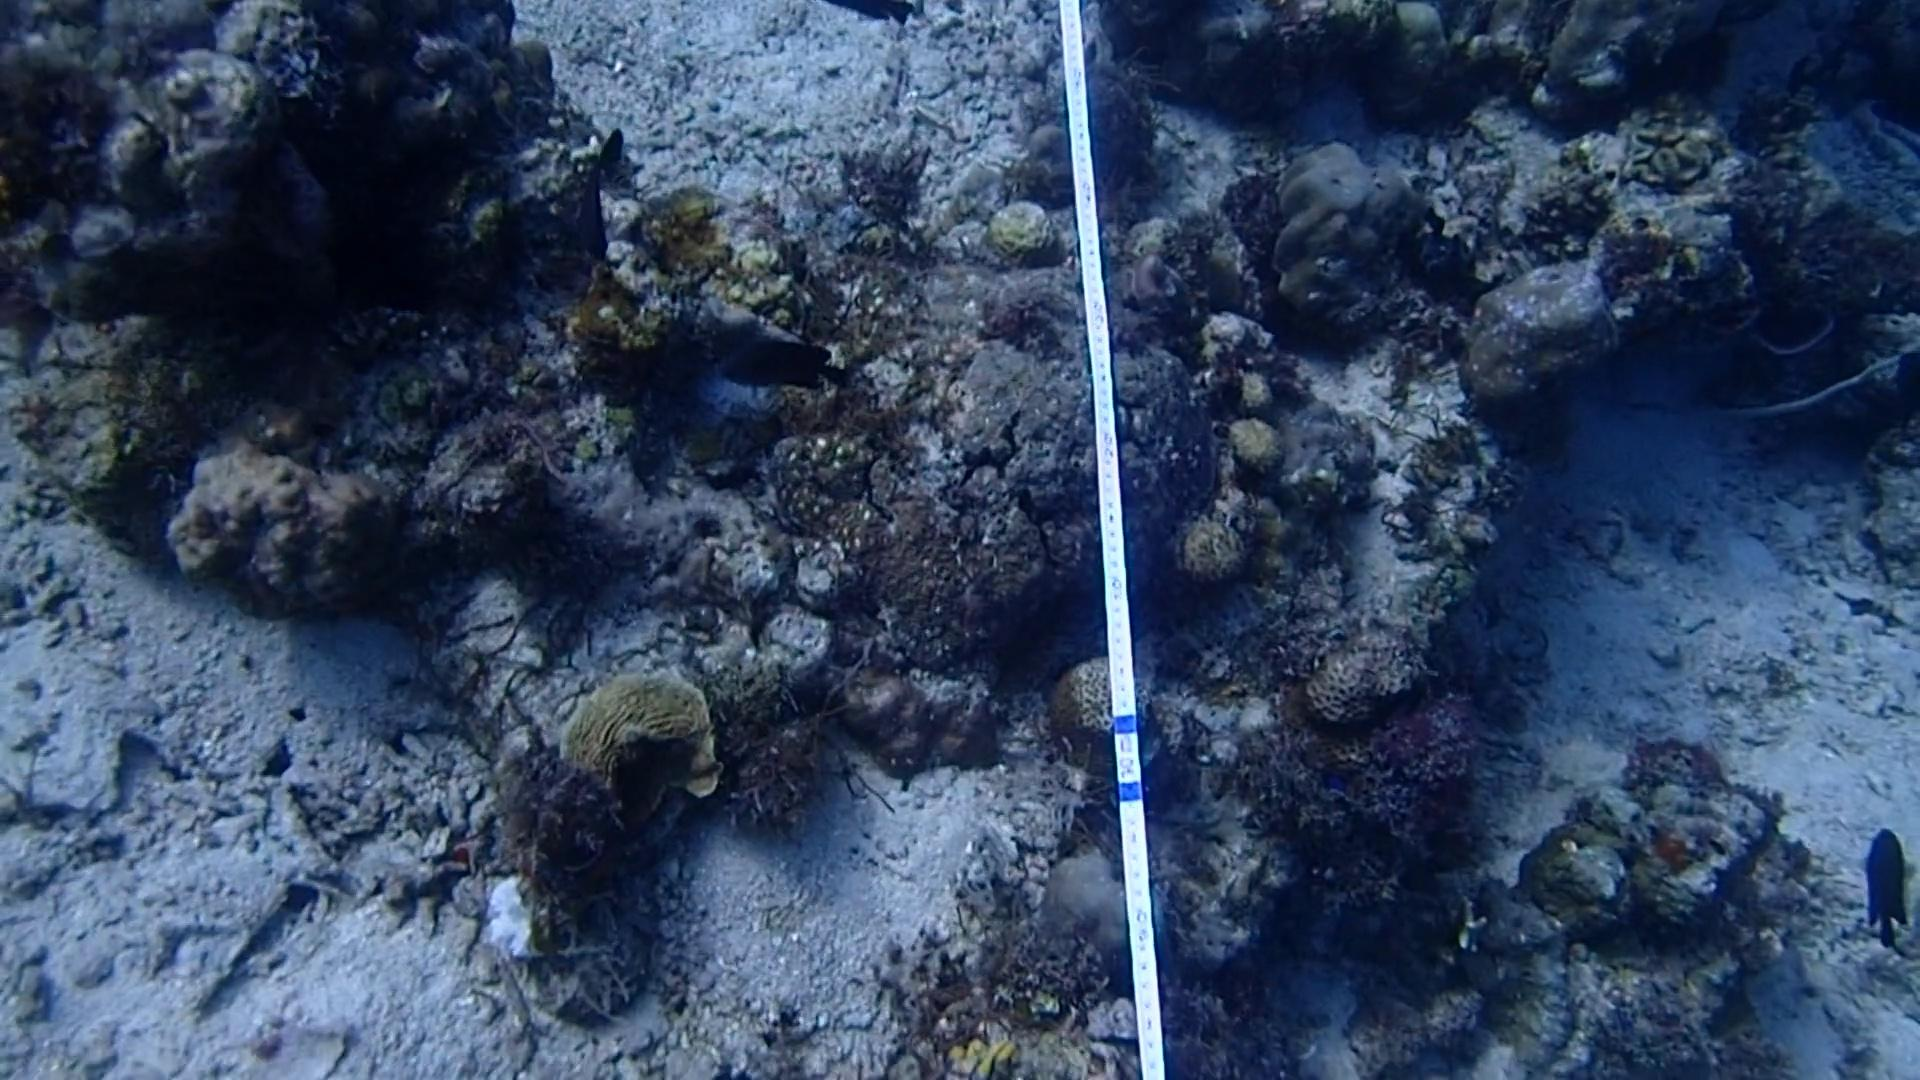Dark Fish: (703, 327, 852, 400), (1853, 827, 1920, 953)
